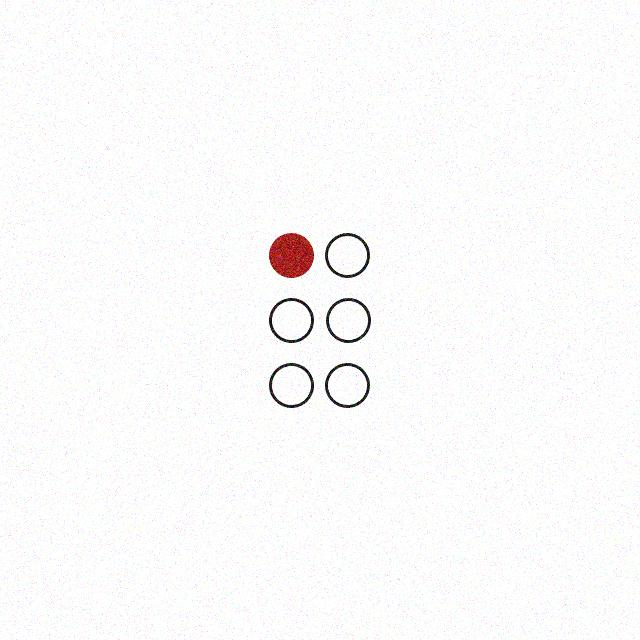A: (265, 228, 373, 412)
